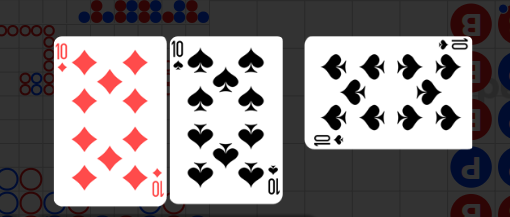10D: (57, 42, 69, 74)
10S: (435, 39, 469, 53), (267, 163, 281, 196)
